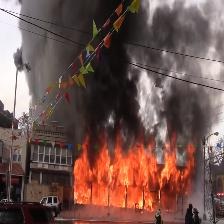fire: (73, 127, 196, 209)
